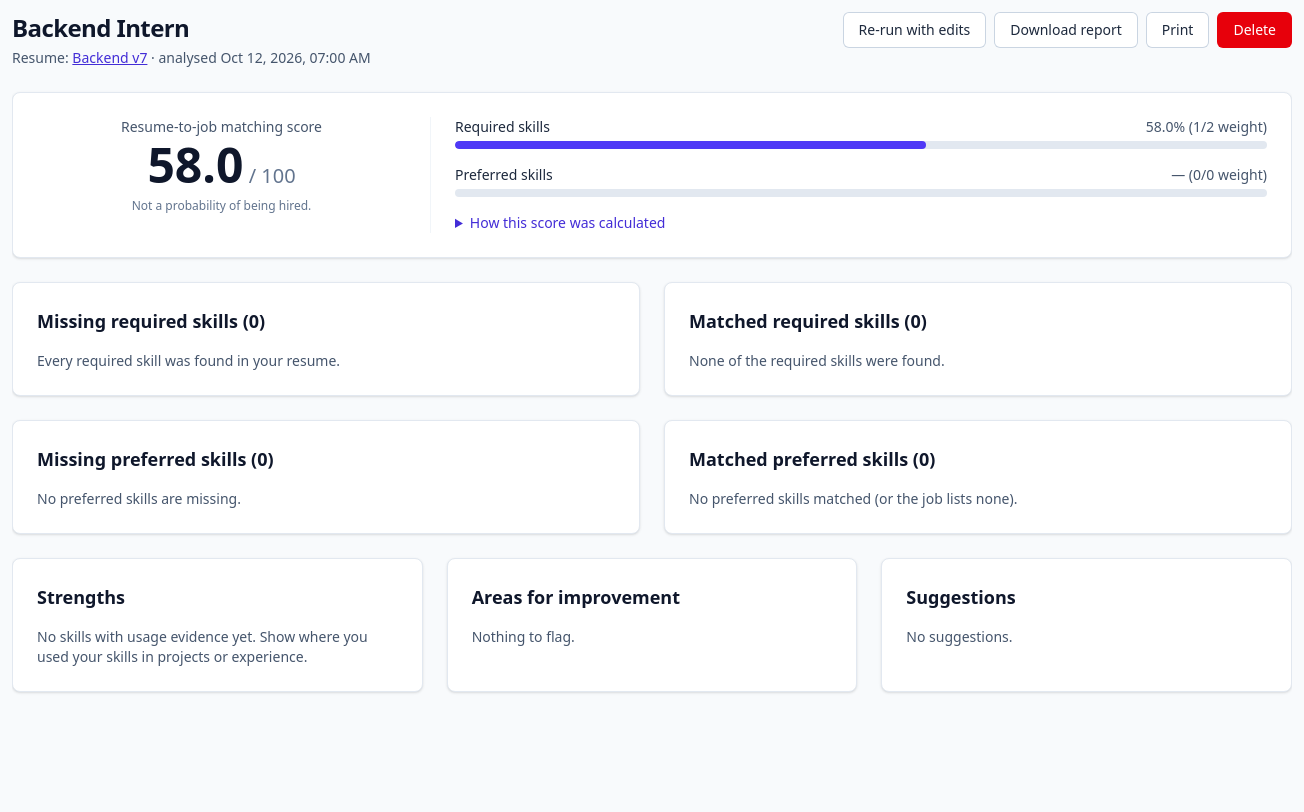
Test: AnalysisDetailPage report actions › shows an error if the download fails
Click the button "Download report" at (1066, 30), box [994,12,1138,48]
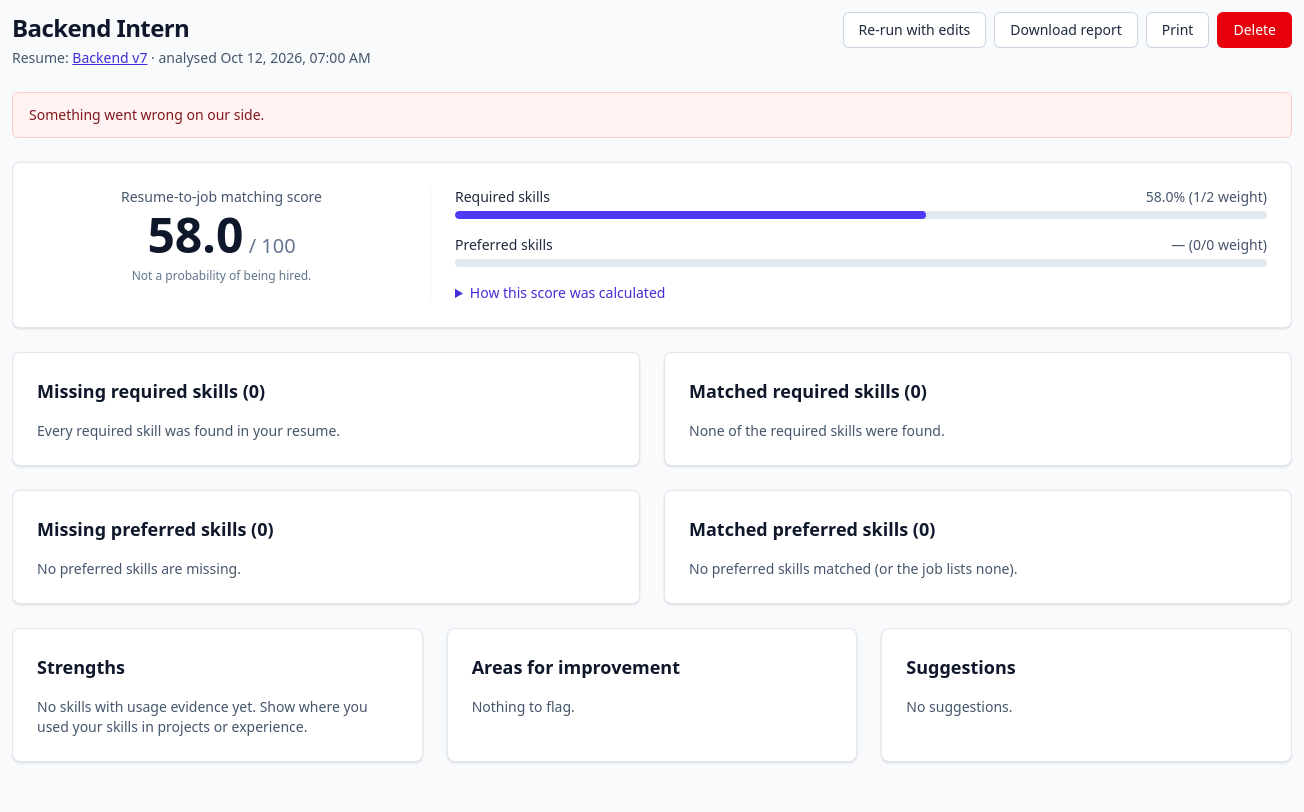
Result: the message reads "Something went wrong on our side." at [29,105,264,124]
